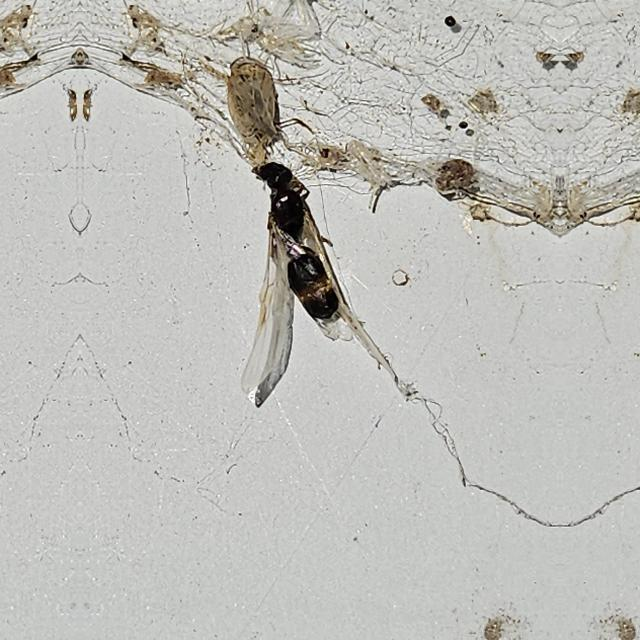Camponotus: (228, 128, 359, 342)
